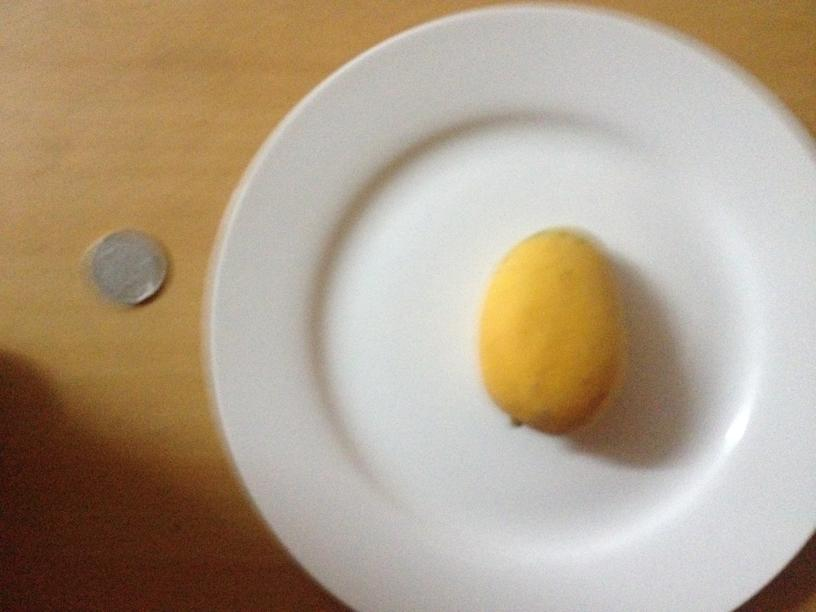coin: (91, 229, 165, 304)
mango: (484, 228, 626, 432)
